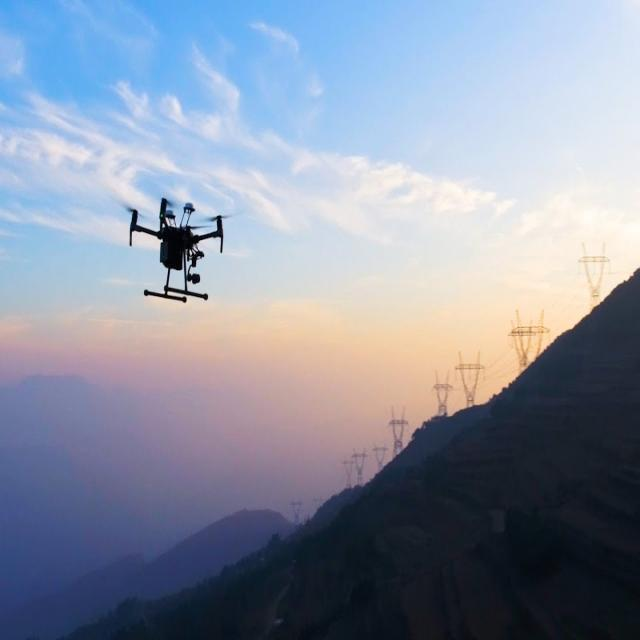drones: (118, 174, 242, 327)
